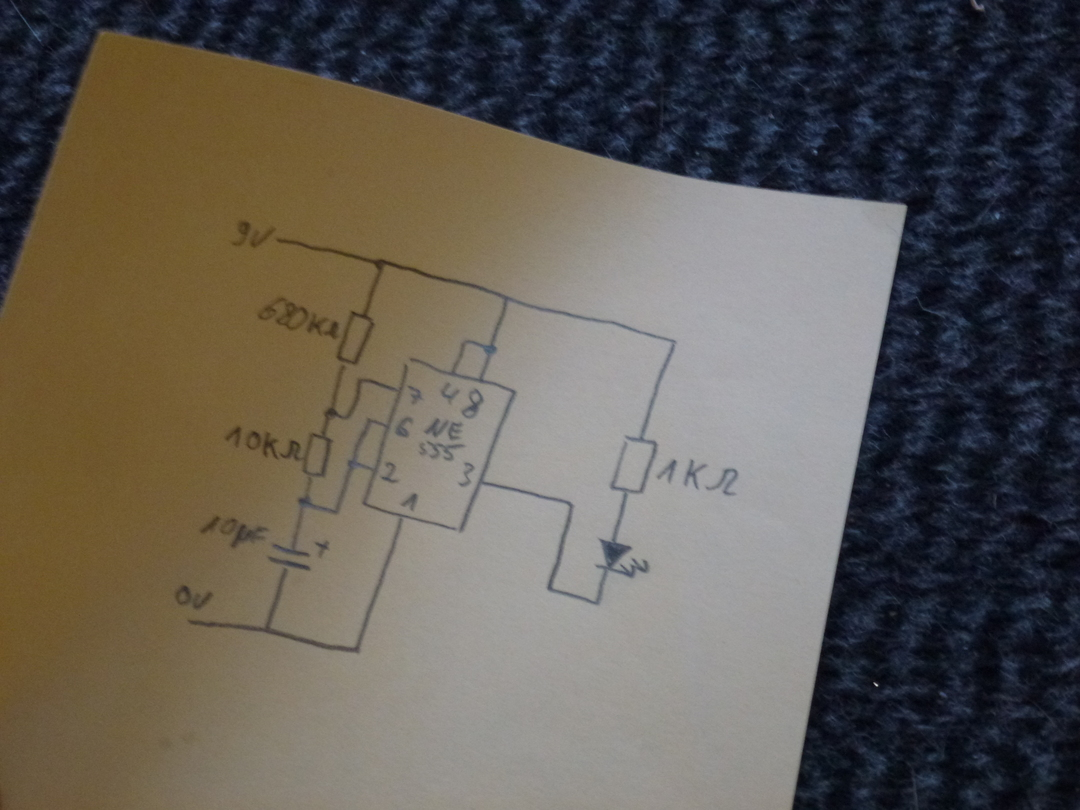capacitor.polarized: (268, 538, 330, 580)
diode.light_emitting: (594, 538, 652, 580)
integrated_cricuit.ne555: (361, 358, 518, 533)
junction: (482, 341, 499, 357), (372, 256, 389, 272), (297, 495, 313, 510), (323, 407, 338, 422), (499, 293, 516, 306), (261, 623, 276, 637), (350, 643, 363, 656), (345, 458, 358, 471), (459, 336, 472, 349), (563, 499, 577, 511), (667, 336, 681, 348), (590, 597, 604, 609), (544, 582, 557, 594), (363, 413, 374, 427), (330, 505, 342, 517), (355, 375, 368, 386), (341, 412, 351, 422)
resistor: (608, 433, 659, 495), (336, 310, 375, 368), (302, 432, 333, 477)
terminal: (183, 615, 197, 629), (272, 236, 285, 247)
text: (257, 297, 338, 340), (657, 457, 741, 497), (223, 426, 304, 464), (199, 515, 270, 549), (417, 417, 467, 461), (228, 220, 274, 250), (174, 584, 213, 611), (462, 388, 485, 420), (439, 381, 461, 406), (457, 462, 476, 488), (380, 462, 402, 484), (394, 416, 414, 438), (400, 492, 420, 512), (407, 384, 424, 407)
